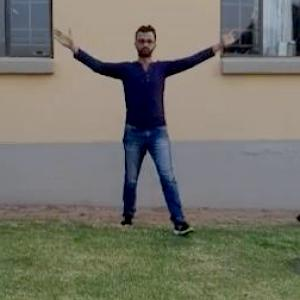takeoff: (44, 22, 225, 215)
